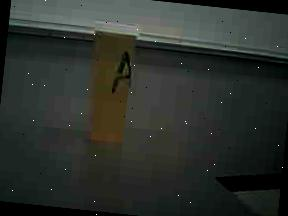Bottle A: (74, 14, 152, 158)
